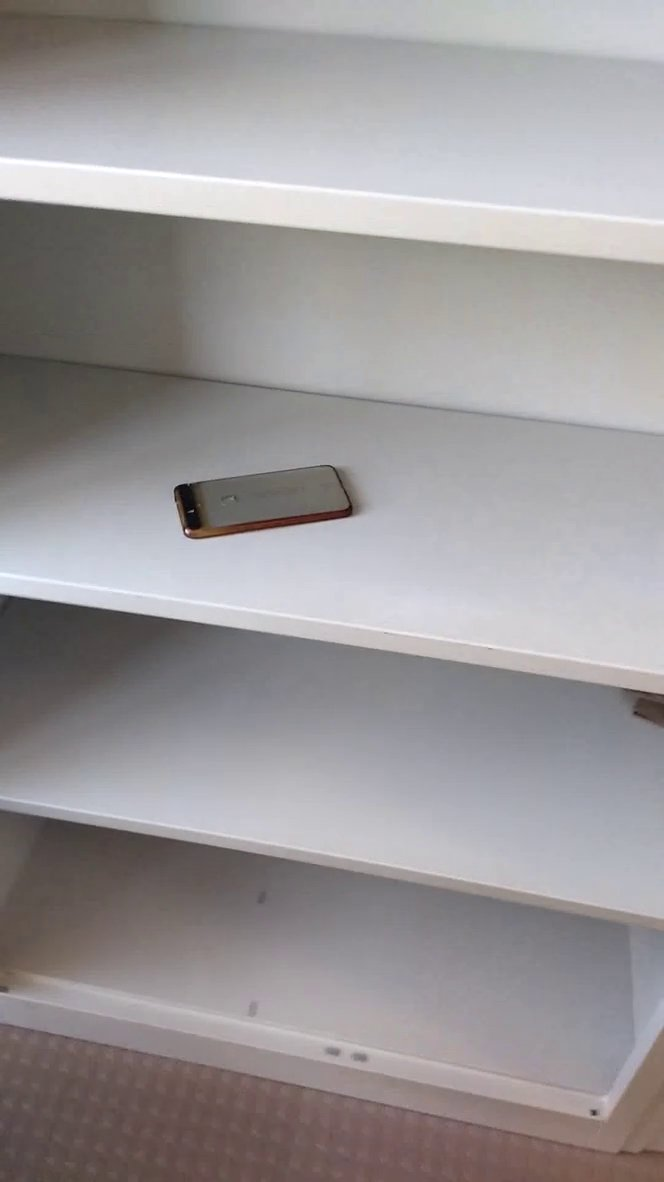phone: (169, 452, 362, 550)
